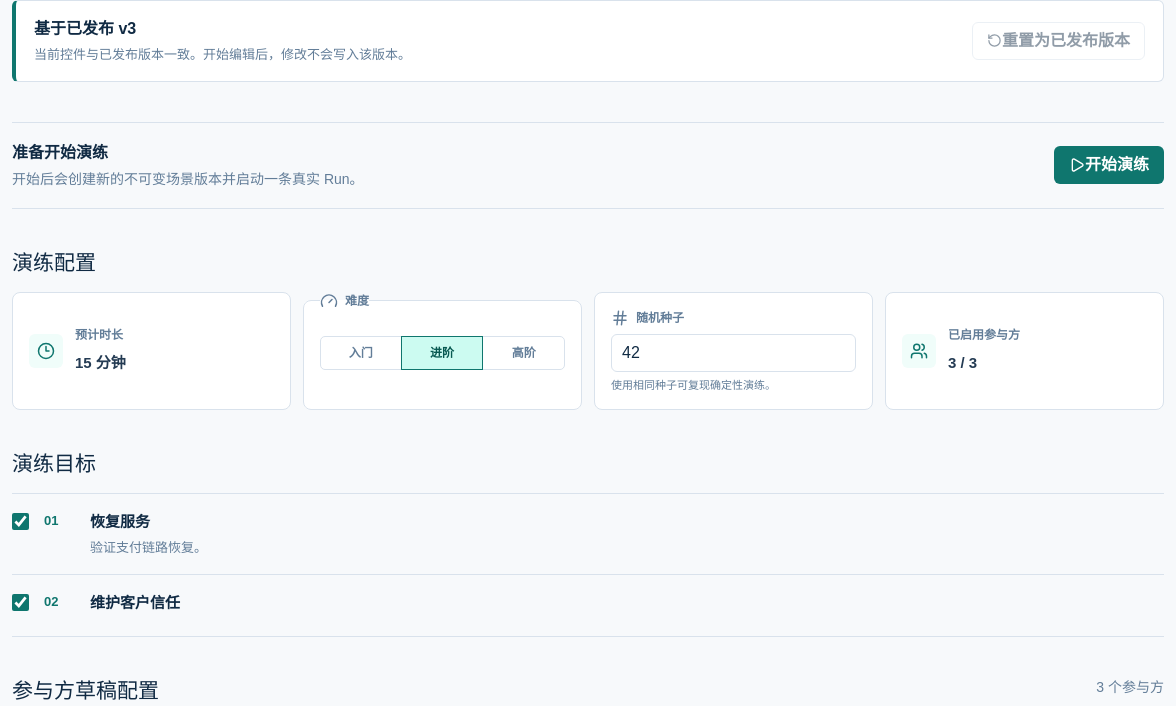
Scenario: StudioDraft › 显示请求失败信息并保持同一按钮可重试
Click the button "开始演练": (1109, 165) [1054, 146, 1164, 184]
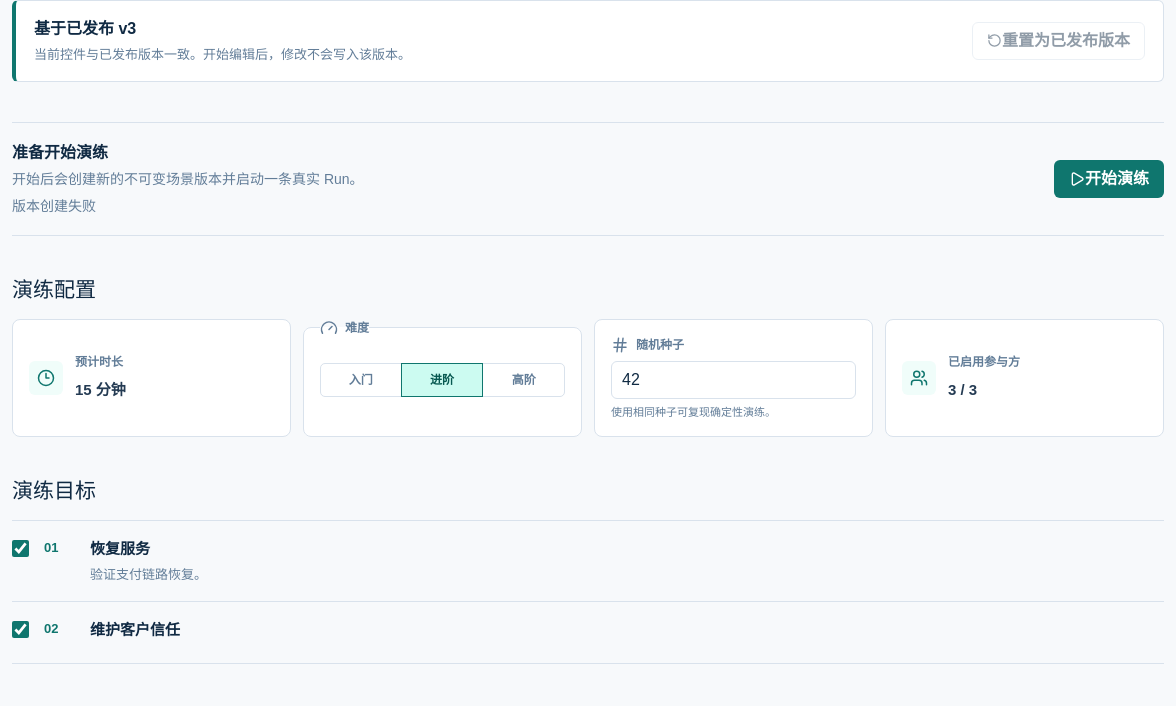
Expected: the button "开始演练" is enabled, [1054, 160, 1164, 198]
Now the message "版本创建失败" is shown, box [12, 198, 96, 214]
